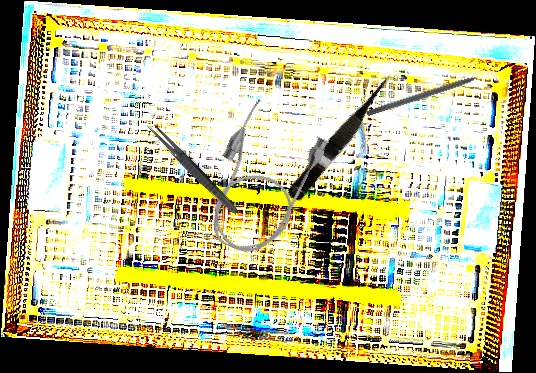Cannula: (188, 95, 334, 266)
Dressing Forceps: (143, 119, 242, 218)
Hook Surgical: (365, 69, 494, 119)
Micro Scissor: (284, 68, 403, 207)
